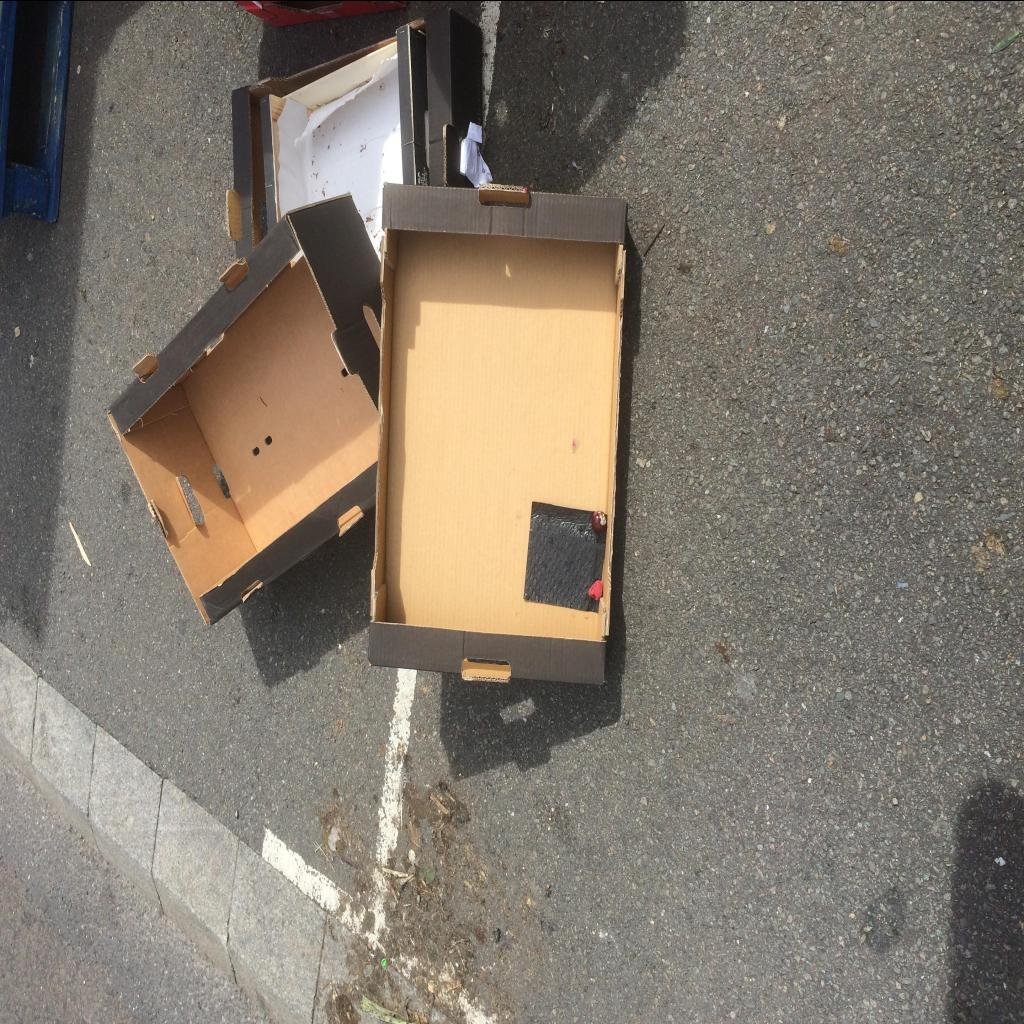Corrugated carton: (368, 180, 626, 684), (106, 190, 382, 624), (226, 6, 482, 261)
Unlabeled litter: (70, 521, 92, 565)
